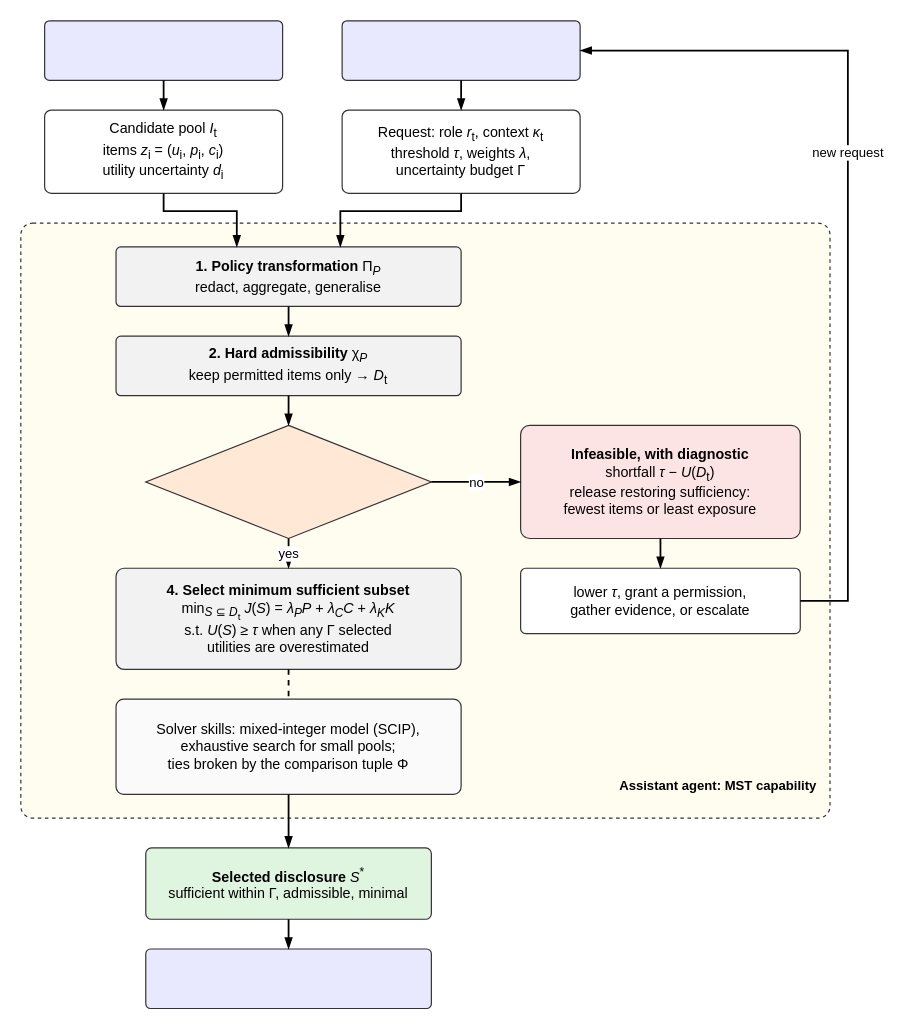
Some shapes in this 904 by 1029 pixel diagram are drawn without their labels. Each missing label, with the centre of its shape:
3. Sufficient? U ( D t ) ≥ τ under Γ: the point at 288,481
Remote agents: the point at 163,50
Role agent: the point at 460,50
Stakeholder receives S * via the role agent: the point at 288,978
